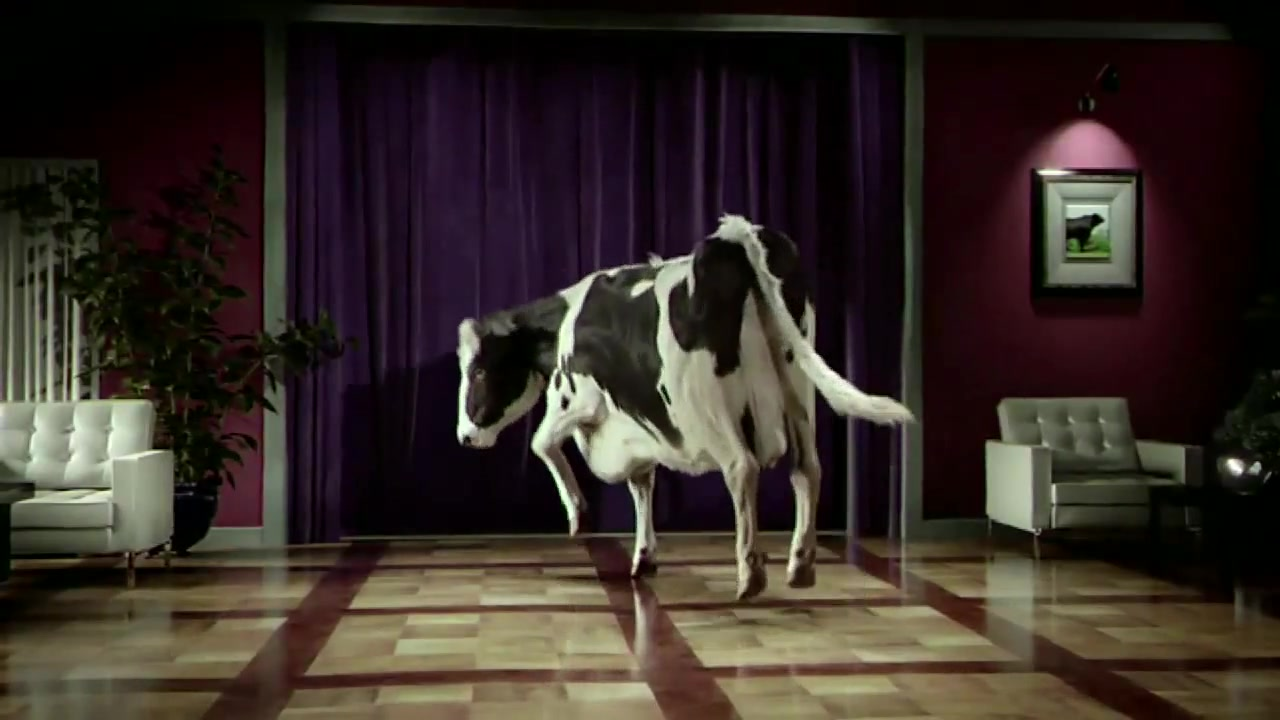cow: (452, 214, 918, 606)
